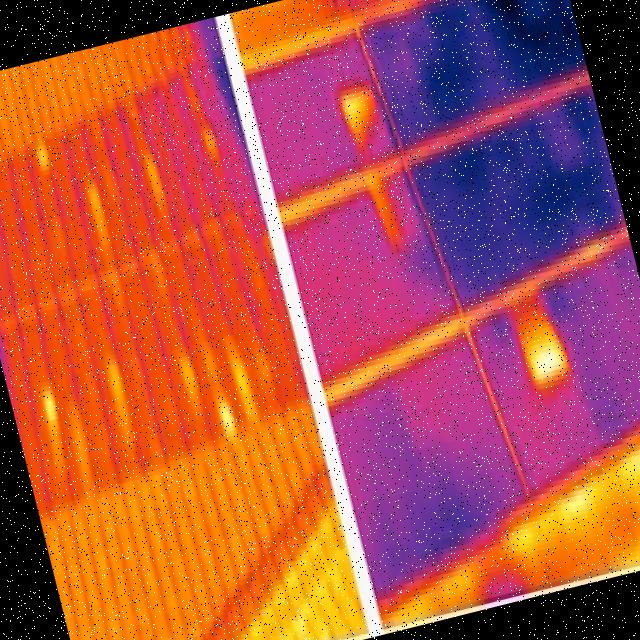Hotspot: (501, 288, 578, 397), (358, 161, 419, 273), (326, 61, 395, 160), (94, 340, 144, 464), (167, 329, 218, 450), (218, 322, 262, 432), (78, 170, 120, 275), (35, 374, 74, 481), (139, 143, 174, 224), (31, 136, 55, 176), (214, 395, 239, 433)
